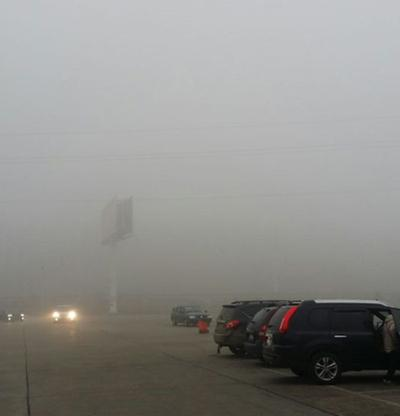car: (260, 300, 400, 386), (244, 303, 337, 369), (214, 298, 311, 358), (170, 303, 212, 326), (52, 303, 78, 323), (1, 308, 25, 322)
